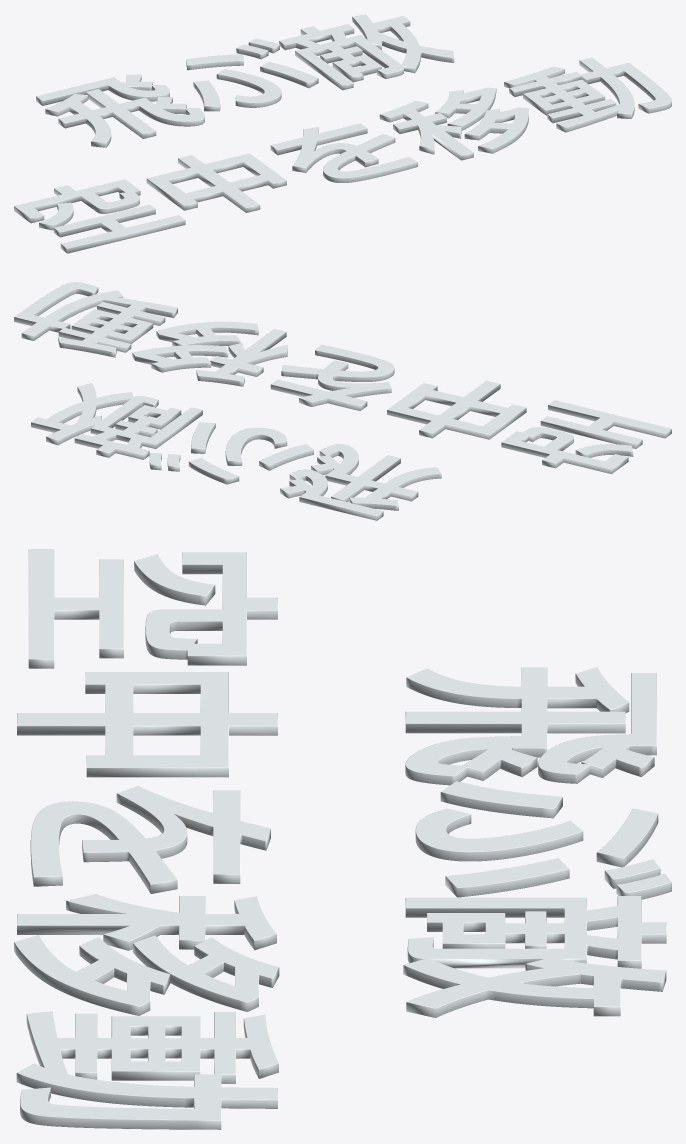
File: stage2_glider.obj
The picture shows the model from 3 angles, top to bottom: view 1: azimuth 30°, elevation 25°; view 2: azimuth 150°, elevation 25°; view 3: azimuth 270°, elevation 25°; orthographic projection. The views are drawn at different scales.
Parts seen in each view (by area): view 1: stage2_glider; view 2: stage2_glider; view 3: stage2_glider.
Boxes of the visible parts, x1=… form: stage2_glider: x1=14, y1=14, x2=671, y2=253; stage2_glider: x1=14, y1=282, x2=671, y2=520; stage2_glider: x1=14, y1=549, x2=671, y2=1129.
Size of the model in its own units: 2.1 by 0.0166 by 1.02.
Materials: 1 (1 with a texture image).
